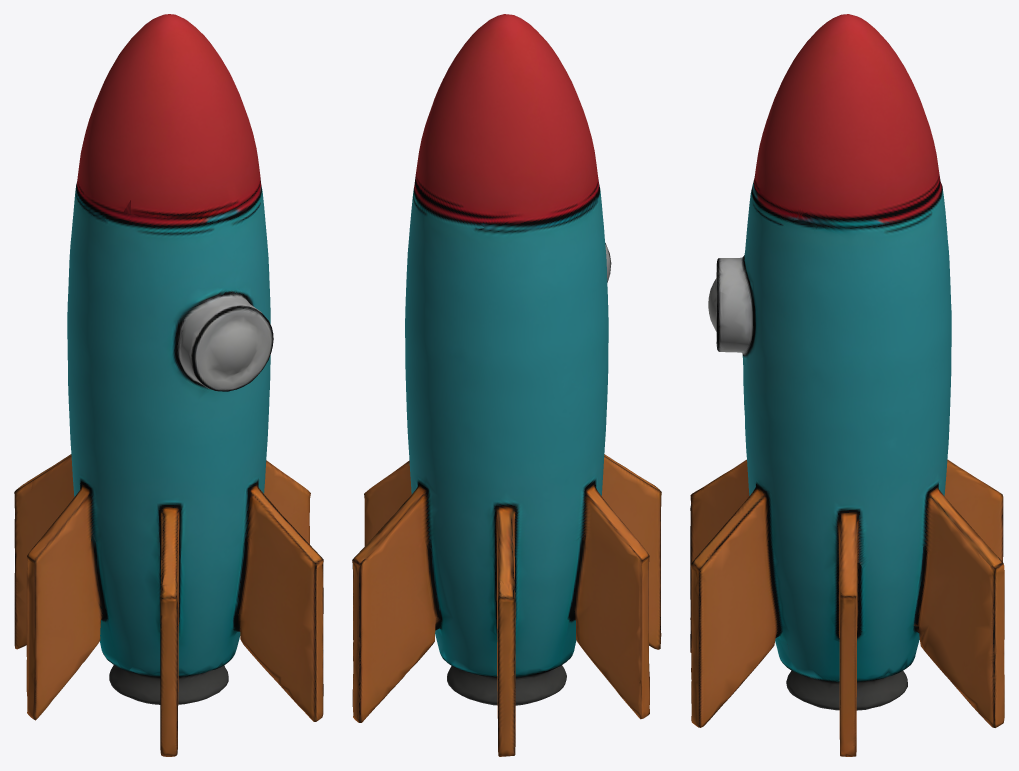
File: rocket.glb
The picture shows the model from 3 angles, left to right: view 1: azimuth 30°, elevation 25°; view 2: azimuth 150°, elevation 25°; view 3: azimuth 270°, elevation 25°; orthographic projection.
Parts seen in each view (by area): view 1: input; view 2: input; view 3: input.
Boxes of the visible parts, x1,y1,x2,y2 form: input: [14, 14, 323, 756]; input: [352, 14, 661, 756]; input: [690, 14, 1004, 756].
Bounding box in the file's own units: 0.2174 × 0.5 × 0.2114.
Materials: 1 (1 with a texture image).
